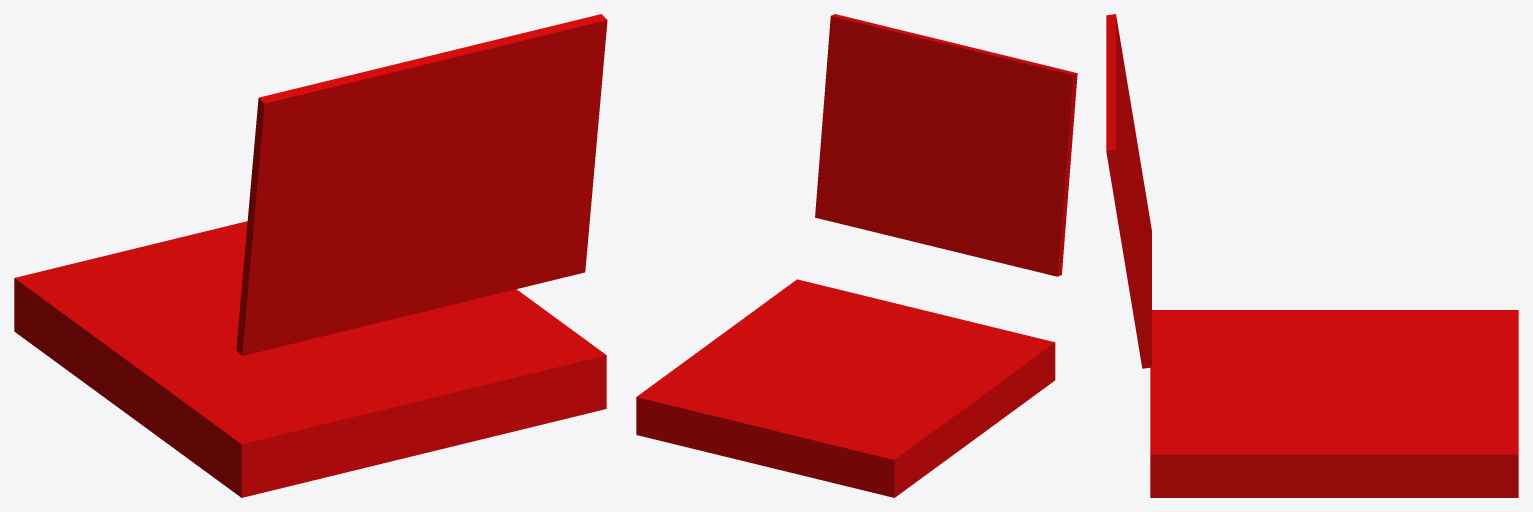
File: Chair_04_Lod1.fbx
The picture shows the model from 3 angles, left to right: view 1: azimuth 30°, elevation 25°; view 2: azimuth 150°, elevation 25°; view 3: azimuth 270°, elevation 25°; orthographic projection. The views are drawn at different scales.
Visible parts, largest first — view 1: Chair_04_Lod1; view 2: Chair_04_Lod1; view 3: Chair_04_Lod1.
Boxes of the visible parts, box(x1,y1,x2,y2) form: Chair_04_Lod1: box(14, 14, 607, 497); Chair_04_Lod1: box(636, 14, 1077, 497); Chair_04_Lod1: box(1106, 14, 1518, 497).
Bounding box in the file's own units: 37.82 × 40.78 × 45.12.
